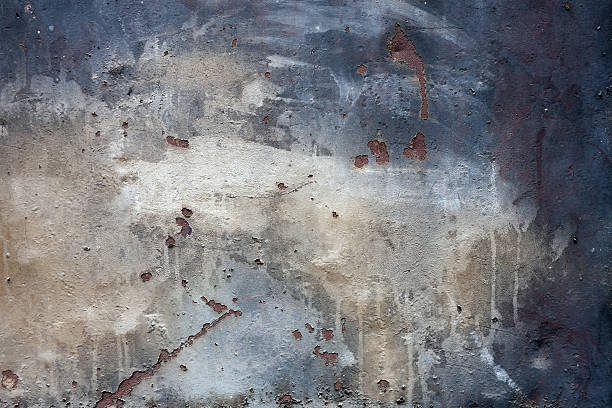rust: (97, 302, 371, 402), (349, 25, 450, 166), (145, 209, 223, 282), (160, 123, 206, 157)
